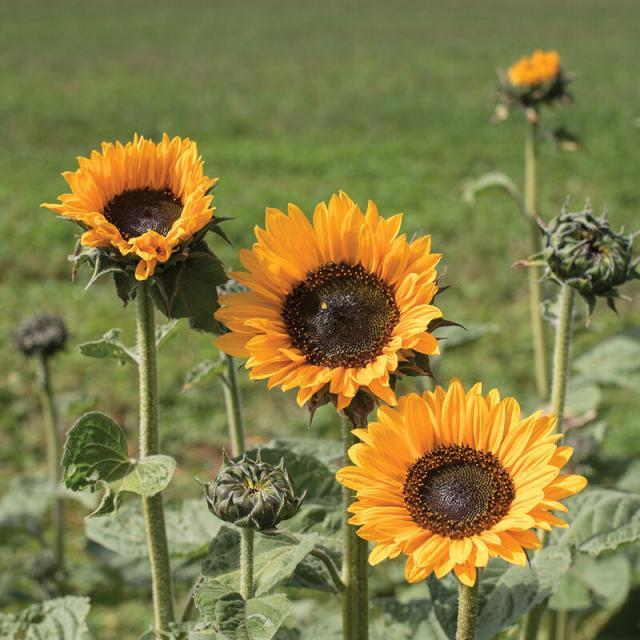sunflower: (211, 188, 444, 420), (334, 375, 588, 587), (40, 132, 218, 280), (506, 48, 560, 88)
